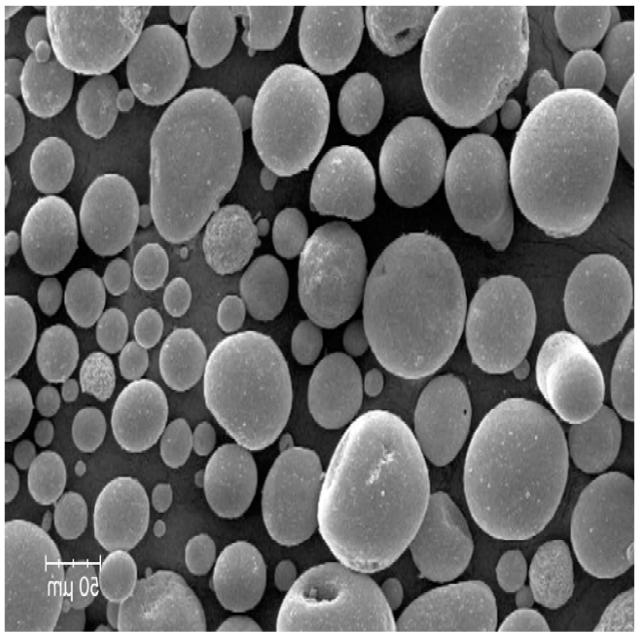cells: (316, 408, 431, 573), (509, 85, 618, 242), (358, 229, 468, 384), (462, 398, 569, 542), (147, 84, 242, 245), (419, 6, 531, 128), (203, 329, 293, 452), (248, 61, 330, 180), (442, 130, 516, 258), (275, 558, 396, 632), (462, 269, 536, 376), (296, 219, 366, 330), (43, 7, 151, 78), (569, 469, 634, 582), (259, 444, 327, 546), (376, 112, 446, 208), (411, 367, 475, 470), (5, 520, 64, 631), (562, 251, 631, 345), (536, 328, 605, 422), (408, 490, 474, 584), (76, 169, 140, 259), (117, 568, 207, 632), (124, 22, 192, 106), (308, 143, 376, 222), (293, 6, 366, 76), (398, 580, 500, 630), (20, 193, 79, 277), (202, 441, 260, 522), (308, 350, 362, 432), (566, 402, 624, 478), (92, 476, 150, 550), (112, 377, 168, 452), (15, 51, 74, 122), (236, 252, 291, 328), (199, 204, 258, 274), (212, 542, 267, 614), (365, 7, 435, 60), (183, 5, 240, 70), (525, 538, 575, 612), (159, 325, 207, 394), (552, 0, 614, 53), (27, 134, 78, 198), (336, 70, 386, 134), (72, 79, 115, 143), (35, 323, 79, 383), (6, 292, 35, 382), (65, 266, 106, 329), (240, 5, 294, 52), (562, 46, 609, 97), (270, 204, 311, 259), (28, 449, 68, 505), (287, 317, 323, 369), (79, 351, 114, 403), (100, 552, 136, 602), (53, 492, 88, 541), (6, 380, 32, 444), (159, 418, 192, 468), (71, 405, 106, 452), (133, 244, 168, 291), (4, 87, 27, 158), (492, 549, 528, 594), (96, 305, 127, 355), (526, 66, 559, 111), (213, 293, 247, 334), (186, 532, 215, 576), (24, 15, 52, 58), (162, 276, 191, 317), (497, 608, 551, 630), (135, 308, 163, 348), (37, 276, 62, 317), (341, 322, 372, 355), (118, 344, 148, 378), (35, 384, 62, 420), (379, 577, 404, 613), (192, 420, 215, 459), (498, 97, 524, 130), (104, 258, 129, 292), (274, 558, 298, 592), (232, 94, 255, 129), (362, 367, 385, 401), (151, 482, 172, 514), (32, 39, 54, 66), (34, 419, 54, 448), (6, 460, 20, 498), (251, 216, 270, 243), (136, 204, 153, 230), (116, 89, 134, 113), (260, 168, 275, 190), (152, 521, 168, 537), (75, 459, 86, 475), (178, 245, 189, 260)
